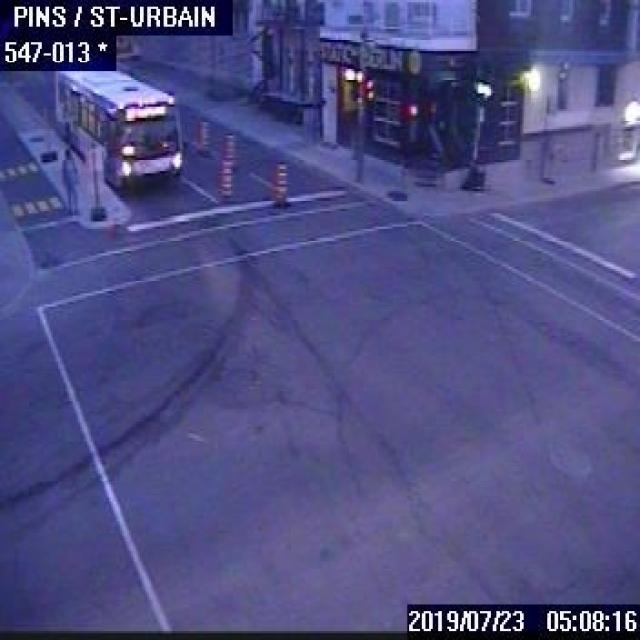bus: (51, 69, 184, 184)
construction: (214, 156, 232, 204), (273, 160, 287, 204), (222, 132, 235, 170), (196, 119, 209, 155)
pedestrian: (58, 147, 75, 211)
